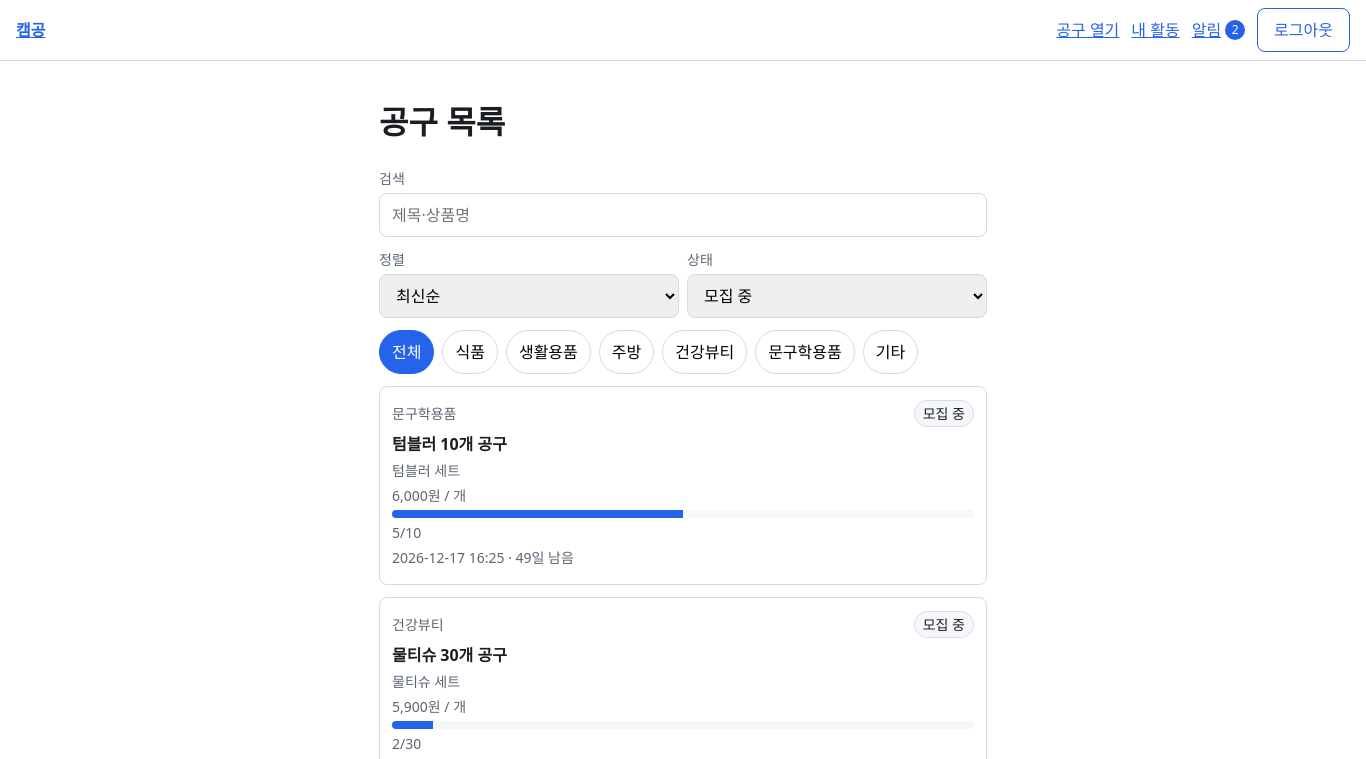
Scenario: 로그아웃하면 anonymous가 되고 캐시를 비운다
Step 1. Click the button "로그아웃" → click(1304, 30), box [1257, 8, 1350, 52]
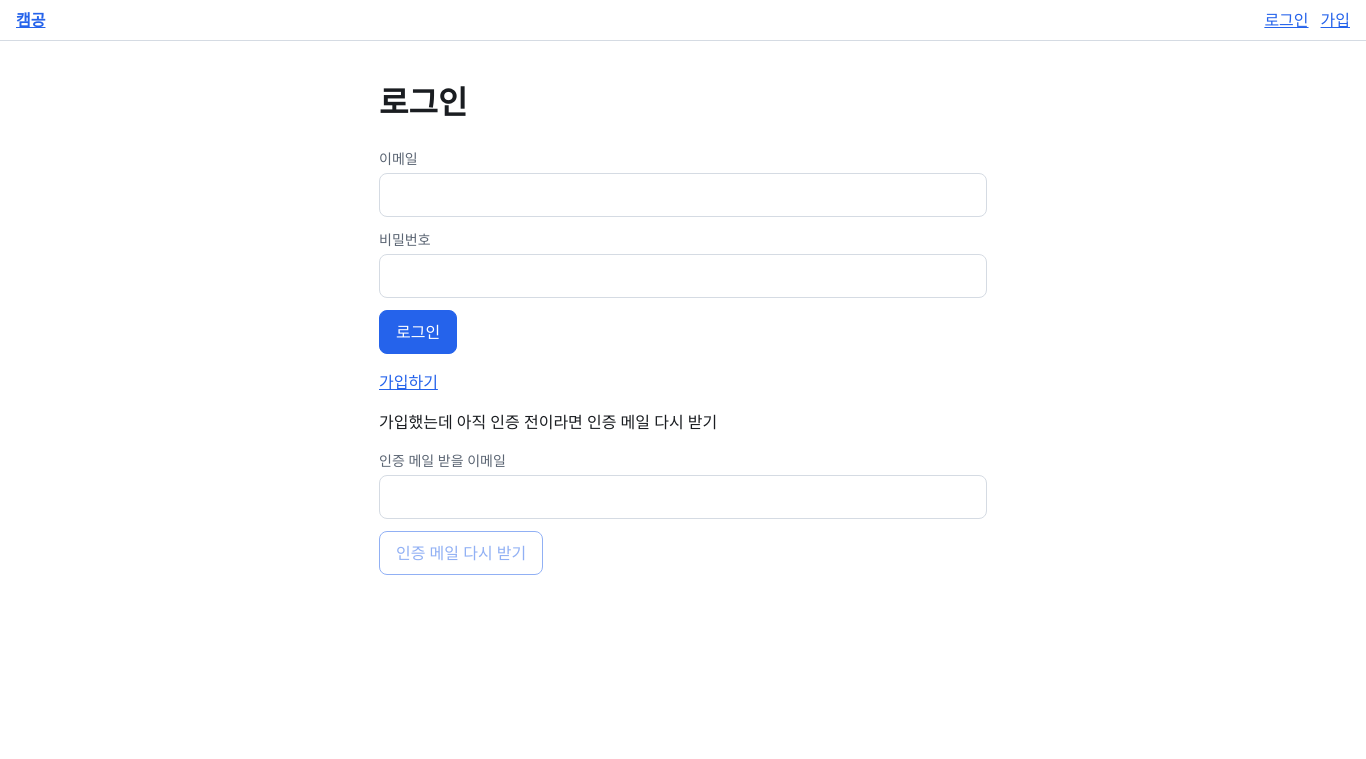
Expected: the link "로그인" is shown, [1264, 8, 1309, 32]
